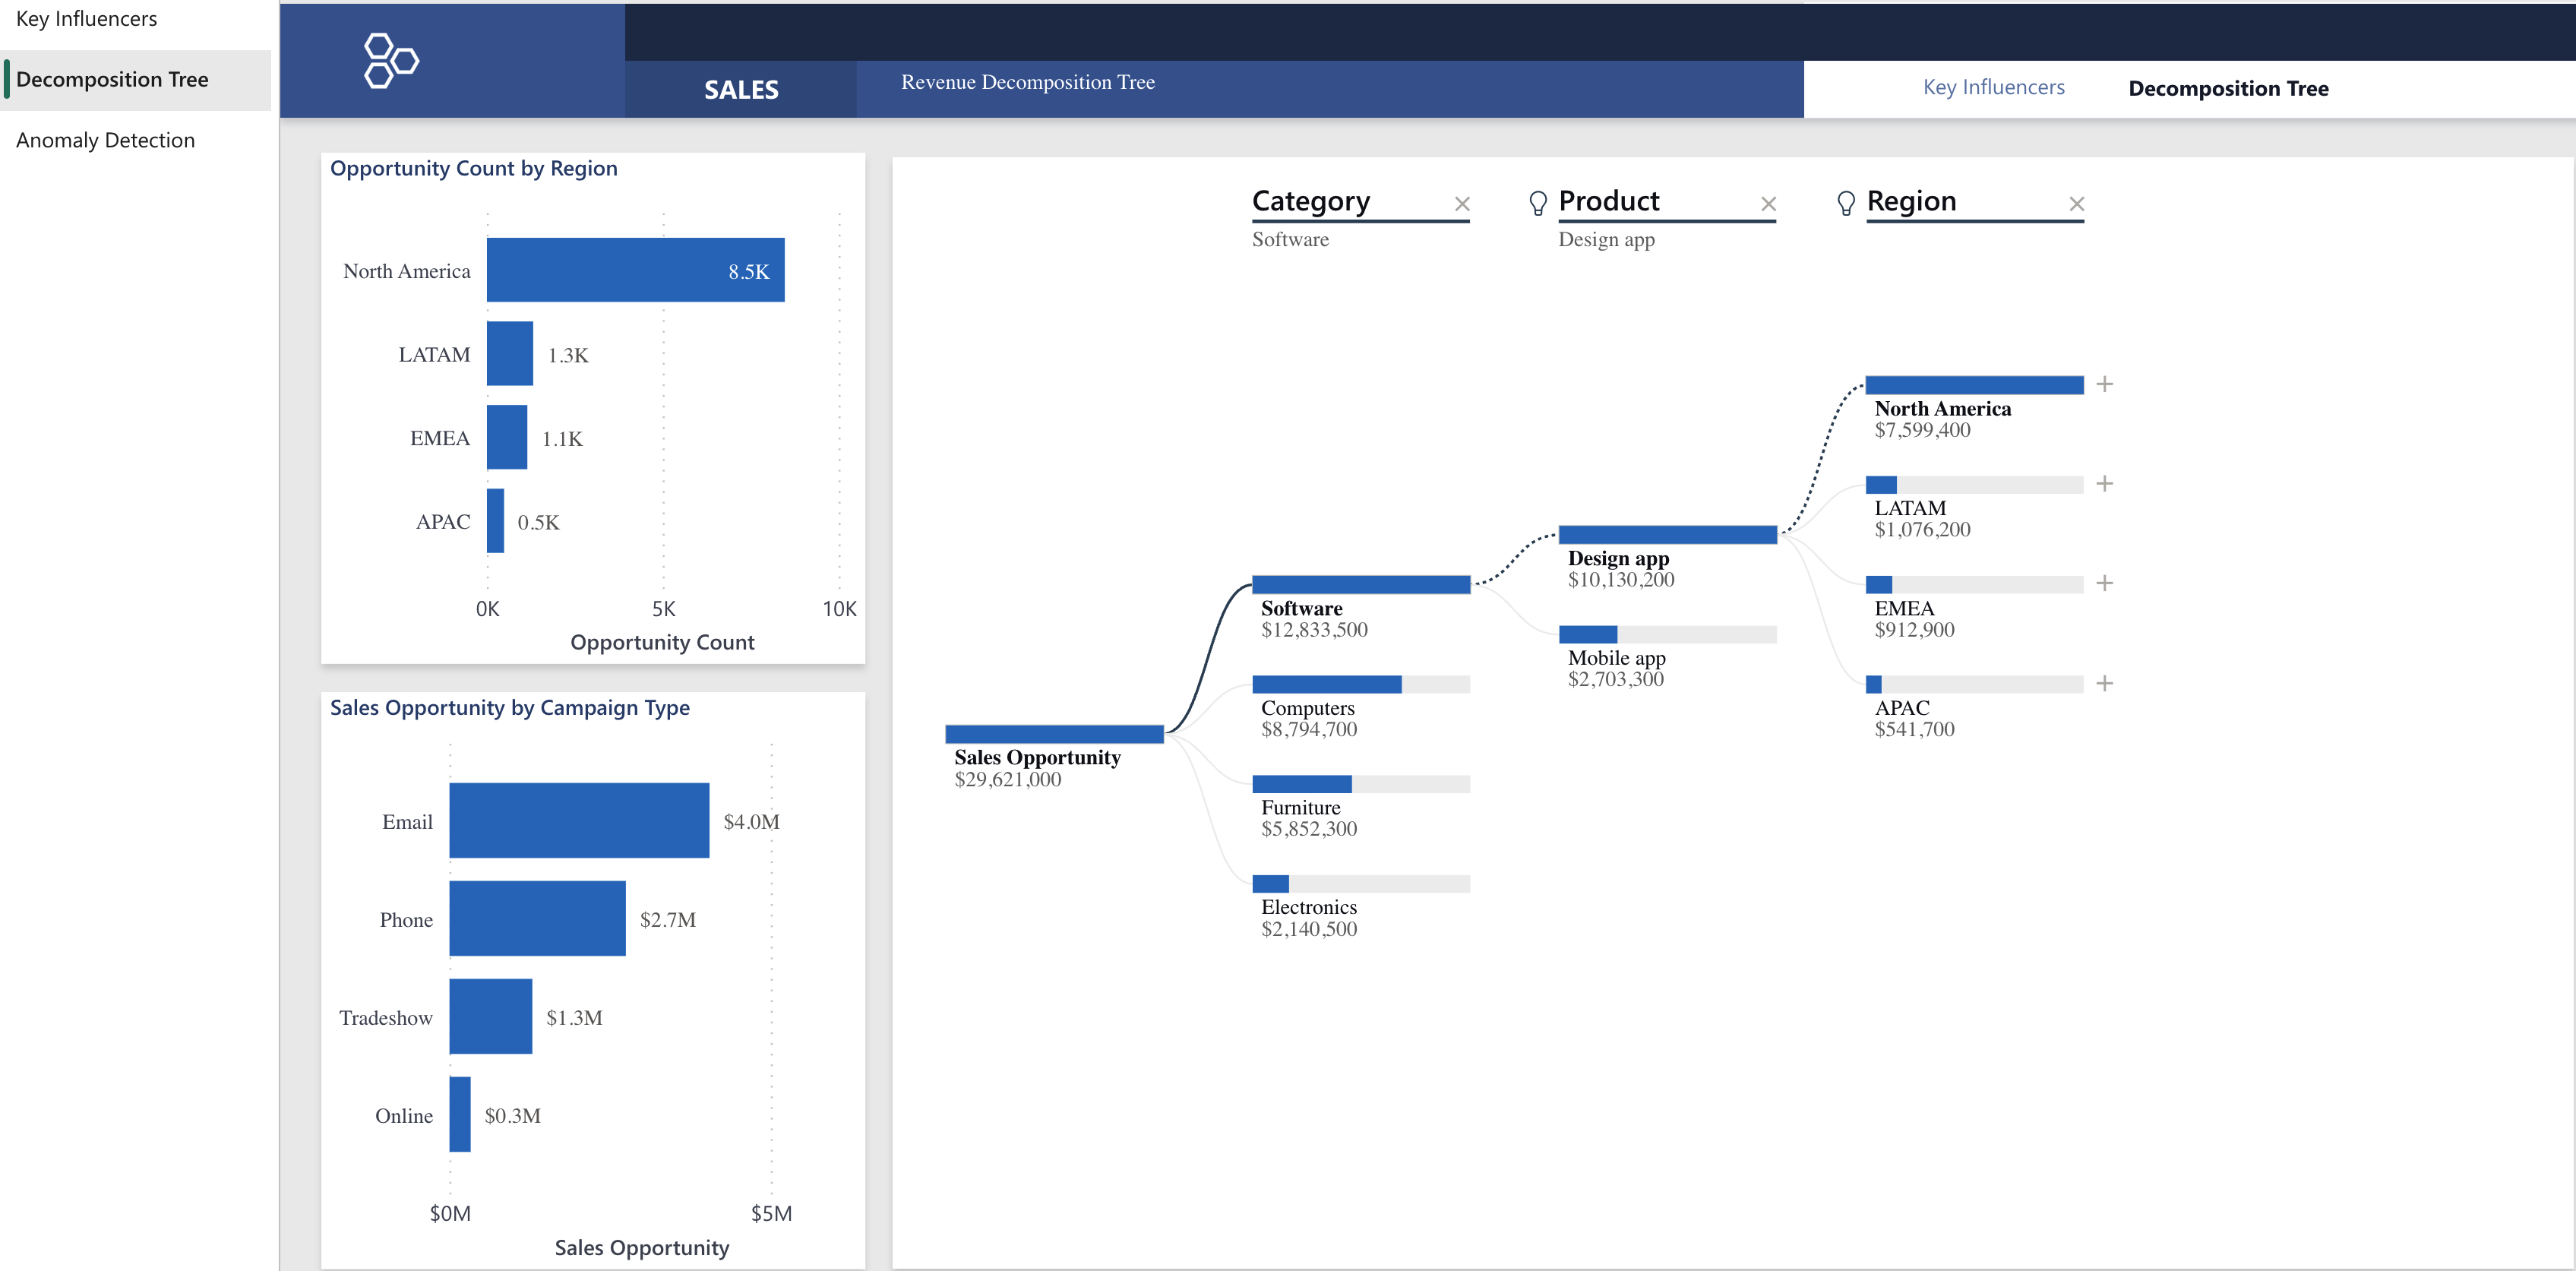

This screenshot's page, from the dashboard's own definition file:
{"tool":"powerbi","page":{"name":"Decomposition Tree","canvas":[1312,744],"ordinal":1},"visuals":[{"type":"shape","title":"Horizontal Shape","box":[0,10,1312,64],"z":0,"group":"g1"},{"type":"shape","title":"Horizontal Shape","box":[855.5,9.6,456.4,64.8],"z":1000,"group":"g1"},{"type":"decompositionTreeVisual","fields":{"ExplainBy":["Products.Product LOB","Products.Product","Accounts.Region","Accounts.Industry","Owners.Owner","Accounts.Territory"],"Analyze":["Sum(Opportunities.Value)"]},"box":[344,96,944,624],"z":1000},{"type":"actionButton","title":"Btn - Sales","box":[193.9,10,129.8,64],"z":2000,"group":"g1"},{"type":"barChart","fields":{"Category":["Accounts.Region"],"Y":["Opportunities.Opportunity Count"]},"box":[23,94,305.6,287],"z":2000},{"type":"shape","title":"Horizontal Shape","box":[193.9,10,1118.1,32],"z":3000,"group":"g1"},{"type":"barChart","fields":{"Y":["Sum(Opportunities.Value)"],"Category":["Campaigns.Type"]},"box":[23,397,305.6,324],"z":3000},{"type":"group","id":"g1","title":"Menu Top","box":[0,9.6,1312,67.2],"z":4000},{"type":"textbox","box":[343.8,41,478.5,35.8],"z":5000,"group":"g1"},{"type":"textbox","box":[194,43,130.9,30],"z":5000},{"type":"actionButton","title":"Title Logo","box":[87.6,24.1,95.4,36],"z":7000,"group":"g1"},{"type":"image","box":[37.1,10,49.8,64],"z":8000,"group":"g1"},{"type":"actionButton","title":"Btn - Decomposition","box":[1031.8,41.9,128.4,34],"z":10000,"group":"g1"},{"type":"actionButton","title":"Btn - Key Influences","box":[903.3,41.4,121,34],"z":11000,"group":"g1"}]}

Visuals, with their boxes on the page's 1312x744 design canvas (x1, y1, x2, y2). These are canvas units, not pixel positions in the 2576x1271 screenshot, which may show the page scaled, cropped or inside an application window:
"Horizontal Shape" shape: box=[0, 10, 1312, 74]
"Horizontal Shape" shape: box=[856, 10, 1312, 74]
decompositionTreeVisual - Products.Product LOB x Products.Product: box=[344, 96, 1288, 720]
"Btn - Sales" actionButton: box=[194, 10, 324, 74]
barChart - Accounts.Region x Opportunities.Opportunity Count: box=[23, 94, 329, 381]
"Horizontal Shape" shape: box=[194, 10, 1312, 42]
barChart - Sum(Opportunities.Value) x Campaigns.Type: box=[23, 397, 329, 721]
"Menu Top" group: box=[0, 10, 1312, 77]
textbox: box=[344, 41, 822, 77]
textbox: box=[194, 43, 325, 73]
"Title Logo" actionButton: box=[88, 24, 183, 60]
image: box=[37, 10, 87, 74]
"Btn - Decomposition" actionButton: box=[1032, 42, 1160, 76]
"Btn - Key Influences" actionButton: box=[903, 41, 1024, 75]
